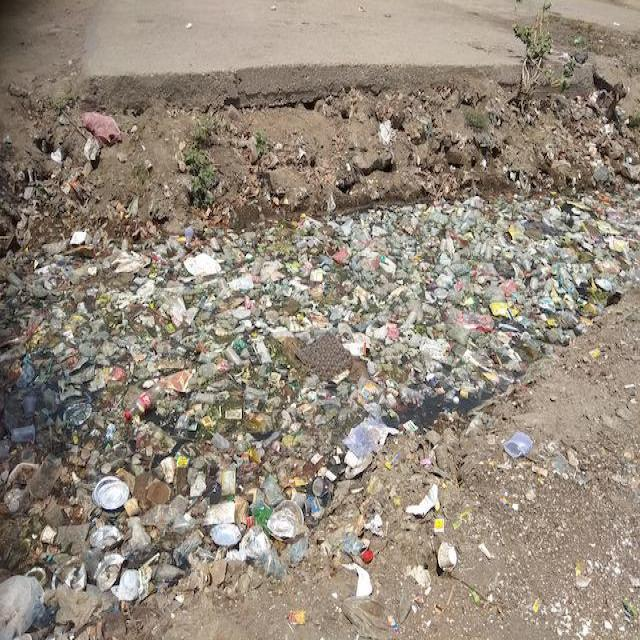garbage: (3, 96, 640, 640)
